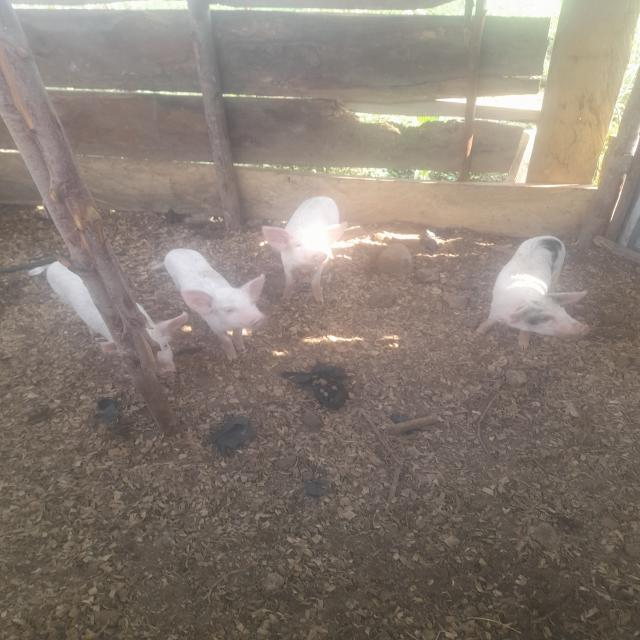pig: (152, 197, 292, 387)
